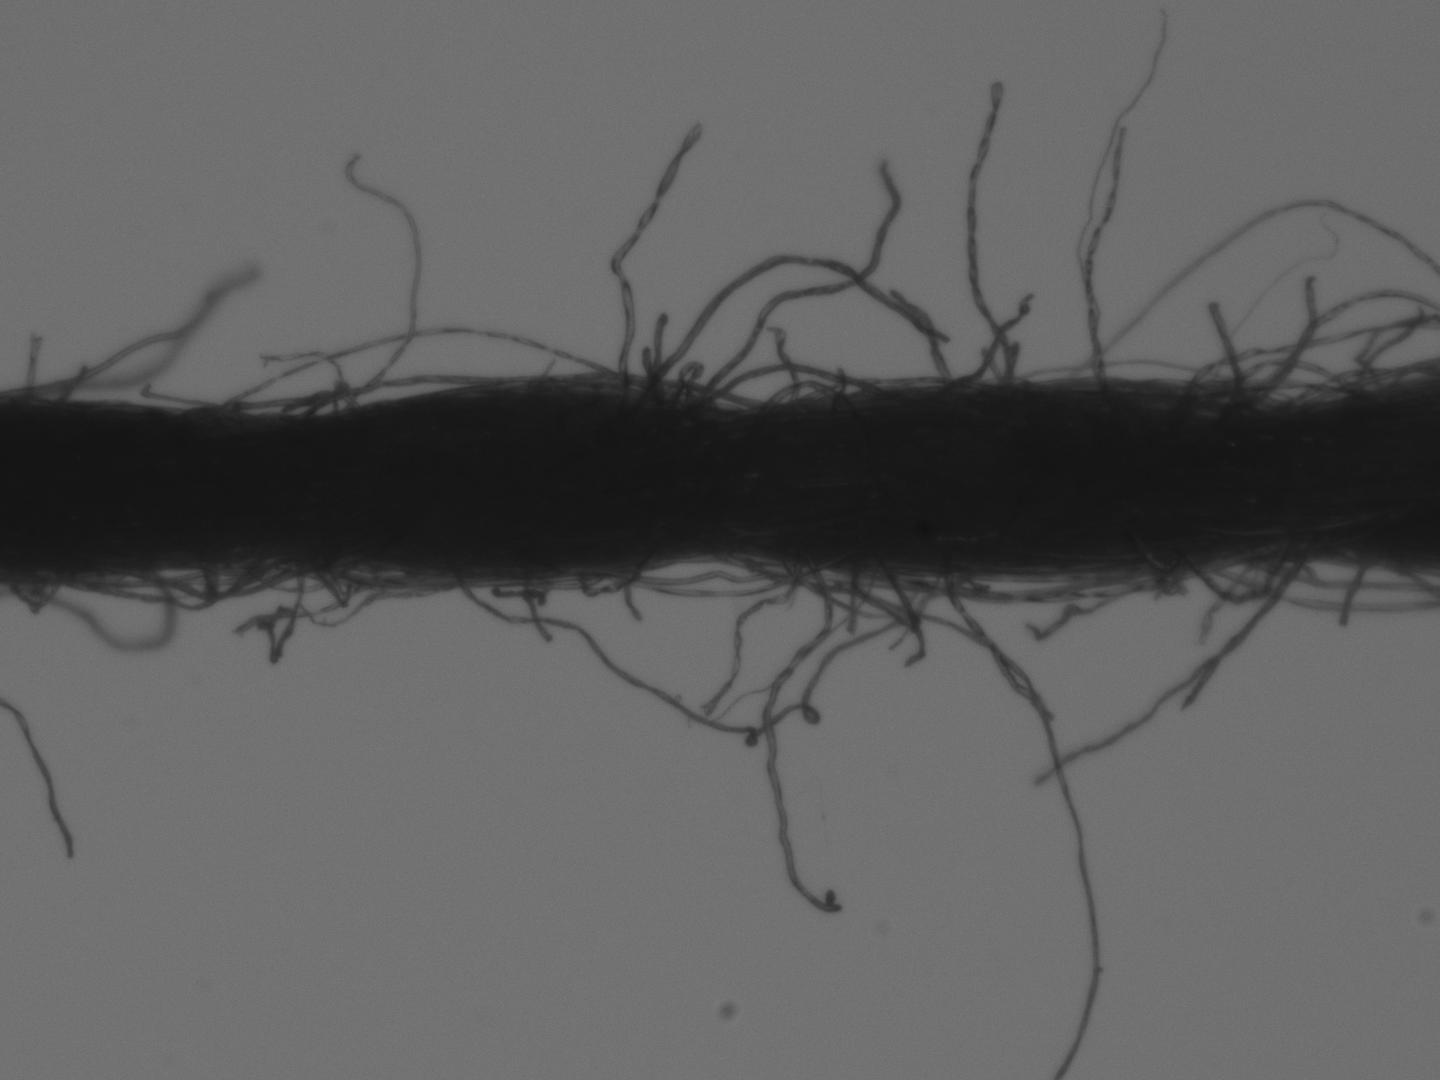loop_fiber: (211, 324, 629, 414), (69, 554, 270, 614), (774, 556, 940, 623), (694, 360, 895, 414), (608, 554, 811, 598), (1208, 355, 1363, 407), (1172, 541, 1293, 605), (135, 563, 306, 599), (314, 566, 415, 613), (1295, 363, 1403, 405), (762, 378, 852, 408), (294, 377, 355, 421), (5, 575, 68, 616), (662, 357, 708, 414), (578, 563, 647, 599)
protruding_fiber: (605, 121, 706, 394), (342, 138, 426, 396)
